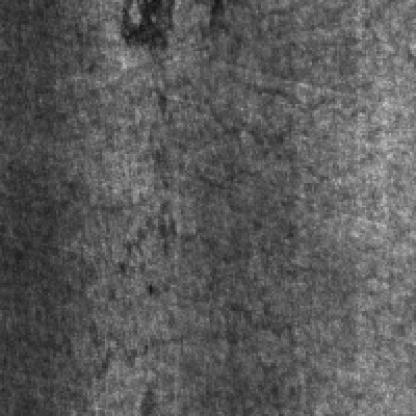crazing: (142, 77, 306, 277), (54, 295, 308, 391)
